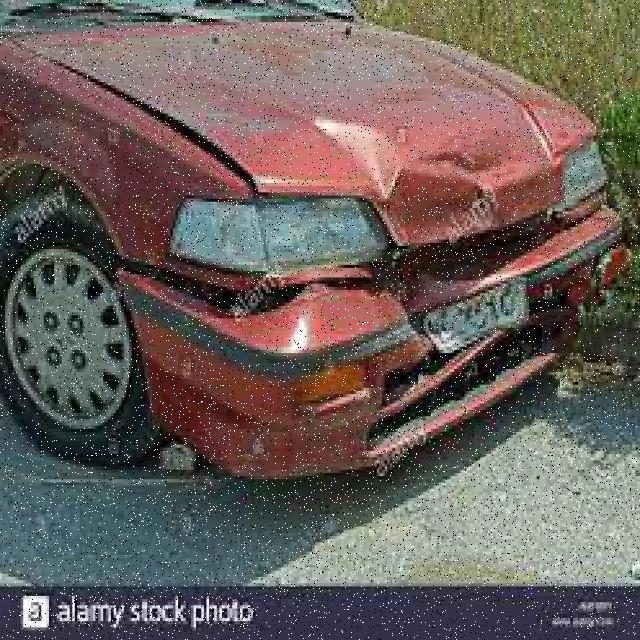bonnet-dent: (96, 19, 584, 230)
front-bumper-dent: (114, 230, 638, 454)
